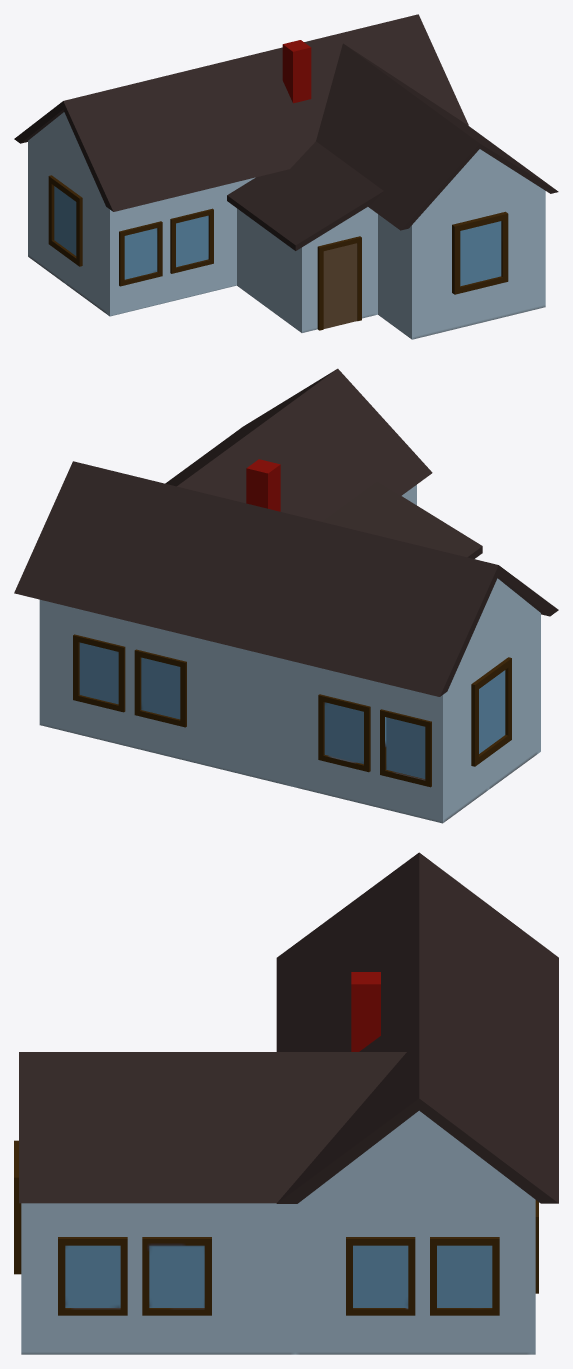
File: OSHouse01.glb
The picture shows the model from 3 angles, top to bottom: view 1: azimuth 30°, elevation 25°; view 2: azimuth 150°, elevation 25°; view 3: azimuth 270°, elevation 25°; orthographic projection. The views are drawn at different scales.
Parts seen in each view (by area): view 1: OSHouse01, OSHouse01Roof, Chimney; view 2: OSHouse01Roof, OSHouse01, Chimney; view 3: OSHouse01Roof, OSHouse01, Chimney.
Part boxes in pixels (box(x1,y1,x2,y2)): OSHouse01: box(28, 112, 545, 339); OSHouse01Roof: box(14, 14, 558, 250); Chimney: box(282, 40, 311, 103); OSHouse01Roof: box(14, 368, 558, 696); OSHouse01: box(39, 485, 540, 823); Chimney: box(246, 459, 280, 511); OSHouse01Roof: box(19, 852, 558, 1203); OSHouse01: box(14, 1110, 538, 1354); Chimney: box(351, 972, 380, 1051).
Size of what is drawn, in the model's own units: 6.09 by 3.33 by 5.71.
Materials: 3 (1 with a texture image).
